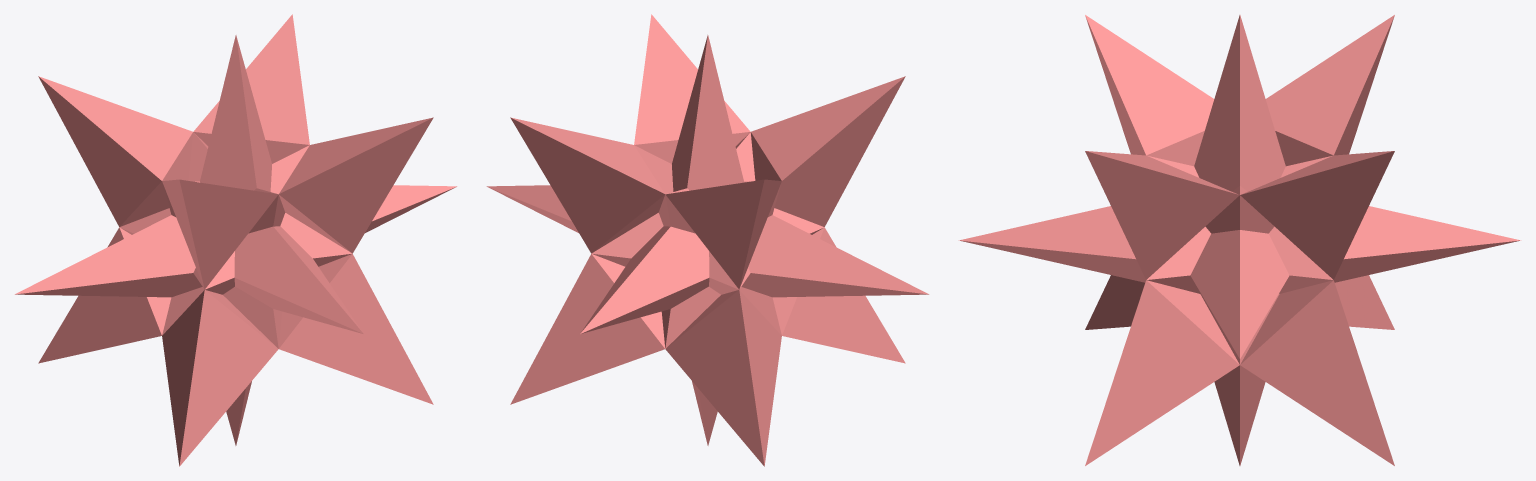
File: enemy.obj
3 views of the same model, side by side, from view 1: azimuth 30°, elevation 25°; view 2: azimuth 150°, elevation 25°; view 3: azimuth 270°, elevation 25° (orthographic). The views are drawn at different scales.
Parts seen in each view (by area): view 1: Cube.001; view 2: Cube.001; view 3: Cube.001.
Boxes of the visible parts, left/top/right/bottom form: Cube.001: left=14, top=14, right=457, bottom=466; Cube.001: left=486, top=14, right=929, bottom=466; Cube.001: left=958, top=15, right=1521, bottom=465.
Size of the model in its own units: 6 by 5.33 by 6.
1 material, 1 textured.
